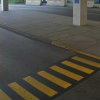crosswalk: (0, 55, 99, 100)
